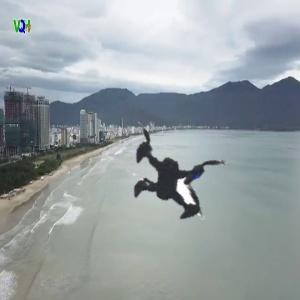drone: (64, 84, 265, 285)
